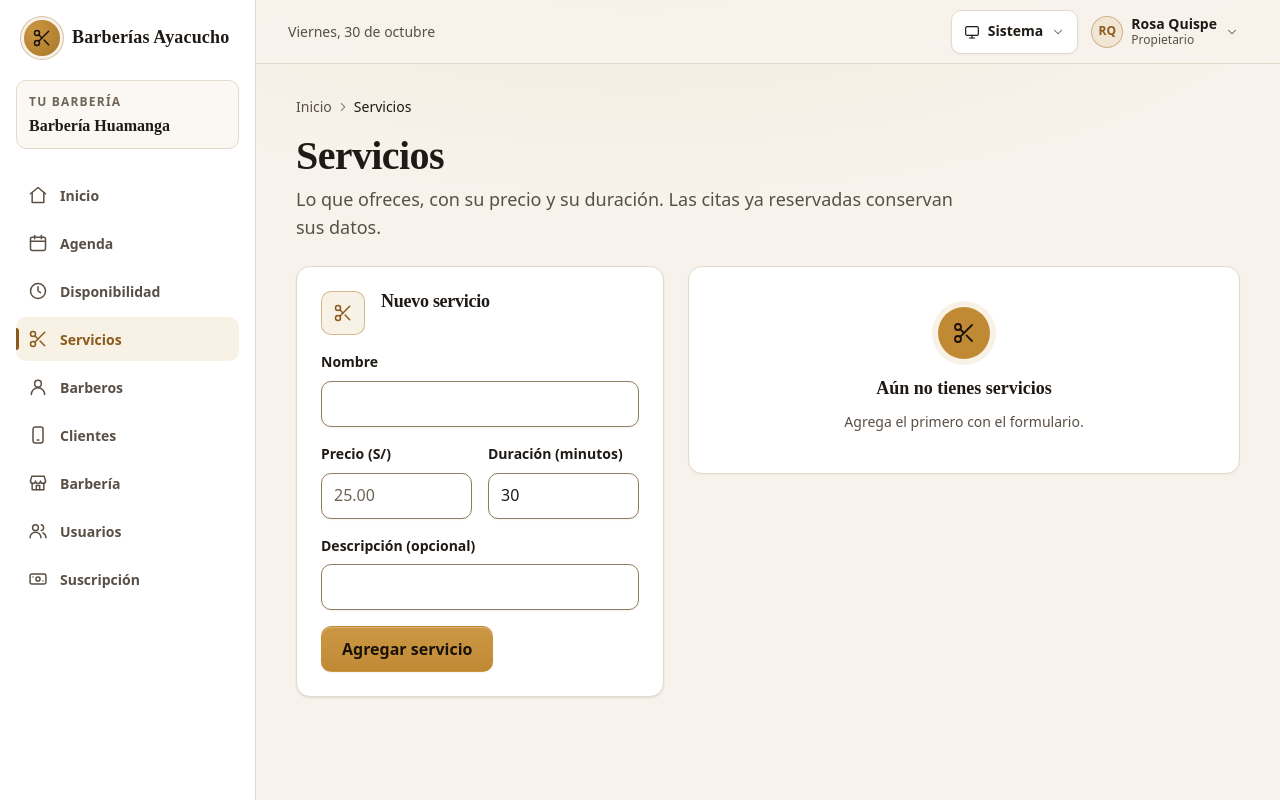
Test: Catálogo con la suscripción vencida › un formulario que recibe 403 SUSCRIPCION_NO_PERMITE muestra "Tu suscripción no permite este cambio"
Type "Barba" into the field labelled "Nombre" at (480,404), box 321,381 -> 639,427
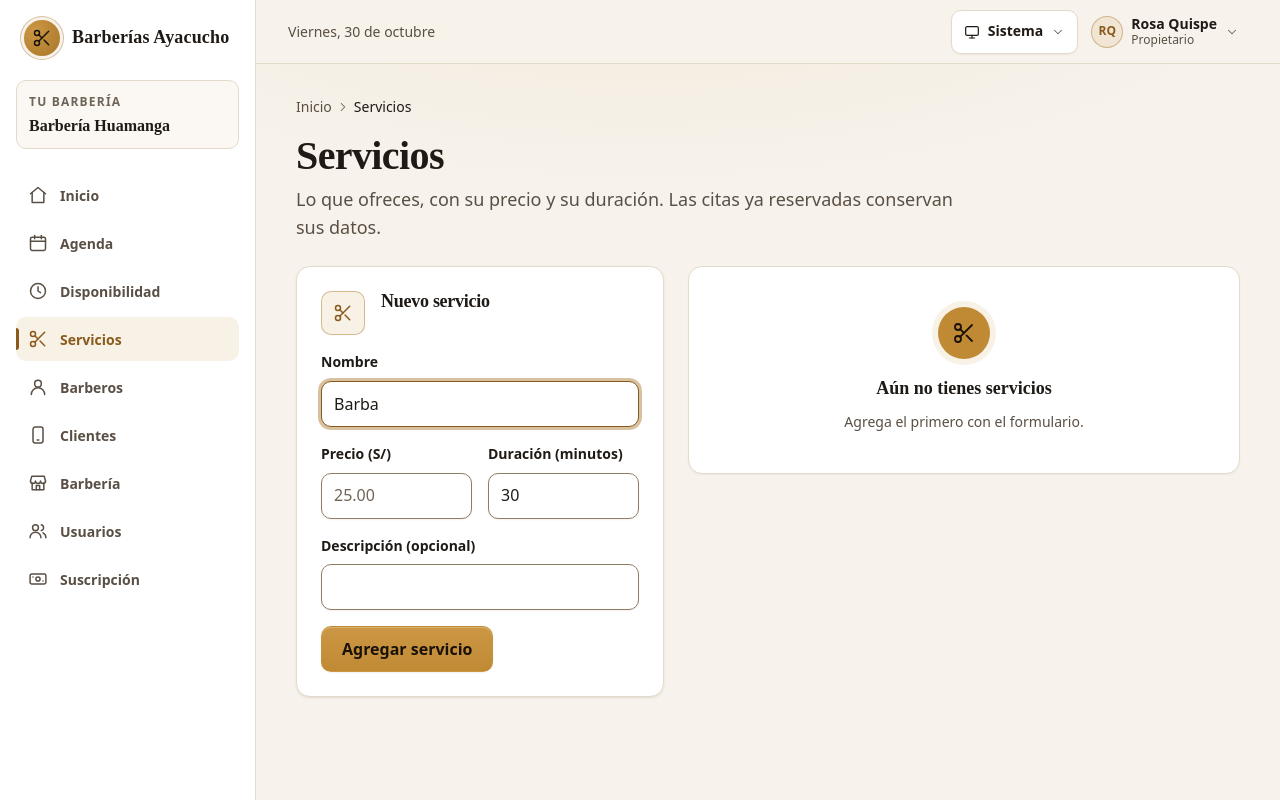
Type "15" into the field labelled "Precio (S/)" at (396,496), box 321,473 -> 472,519
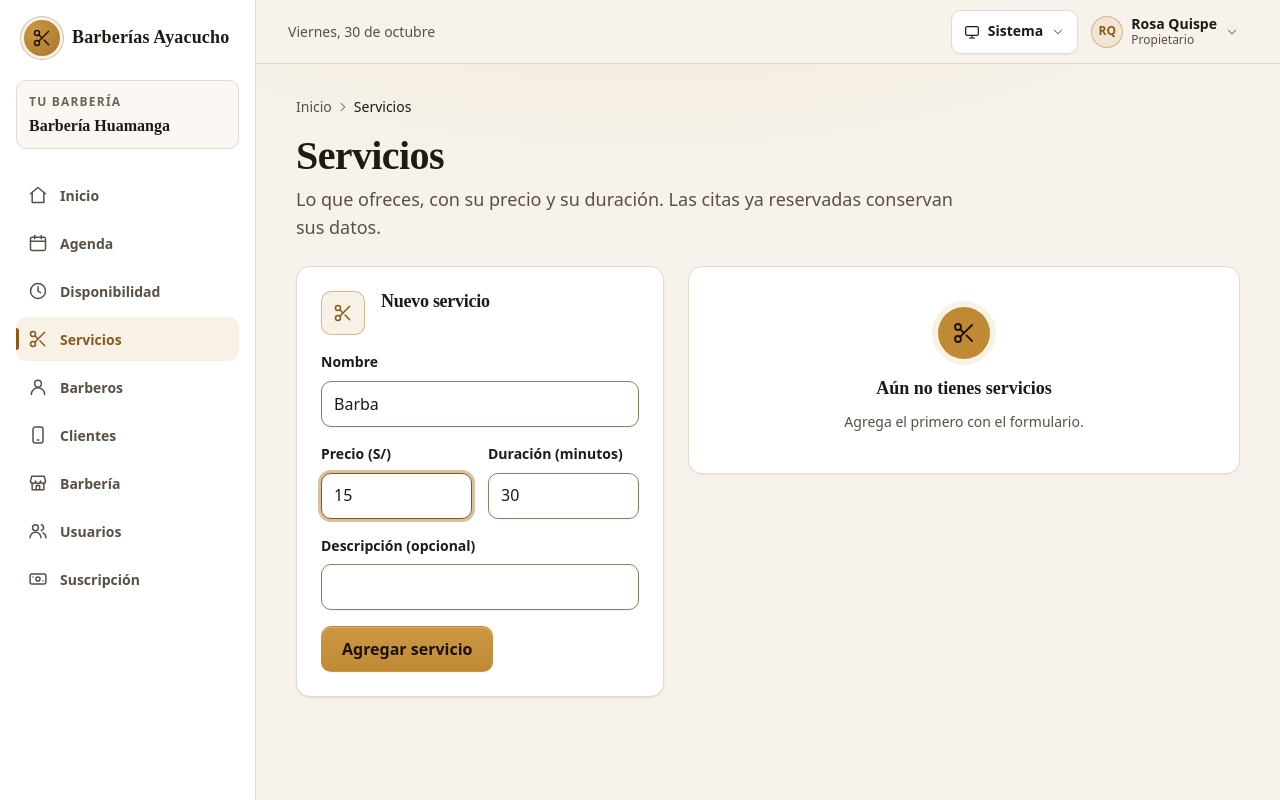
Click the button "Agregar servicio" at (407,649), box 321,626 -> 494,672
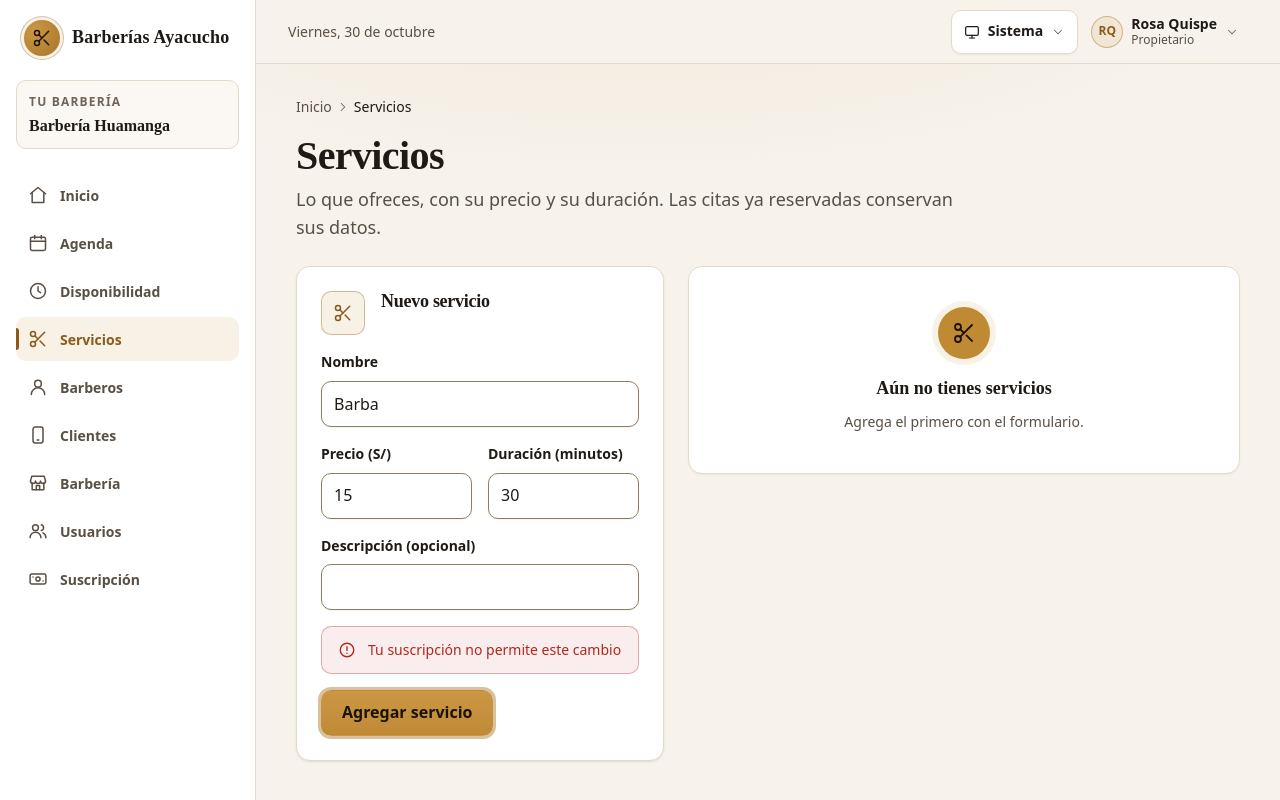
Check: the text "Tu suscripción no permite este cambio" is shown, box 368,639 -> 621,661
